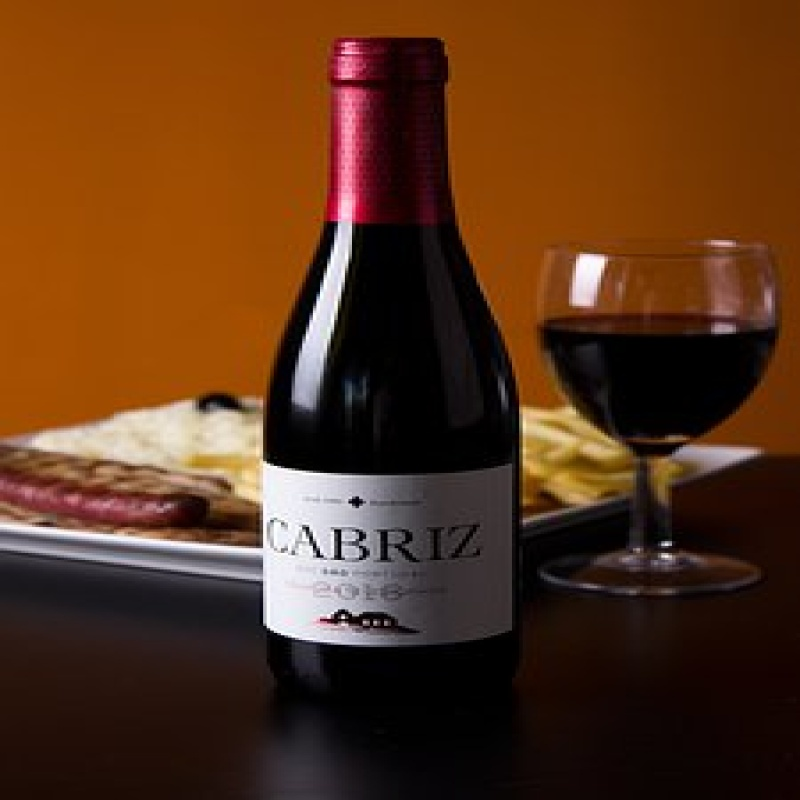wine: (261, 49, 522, 676)
